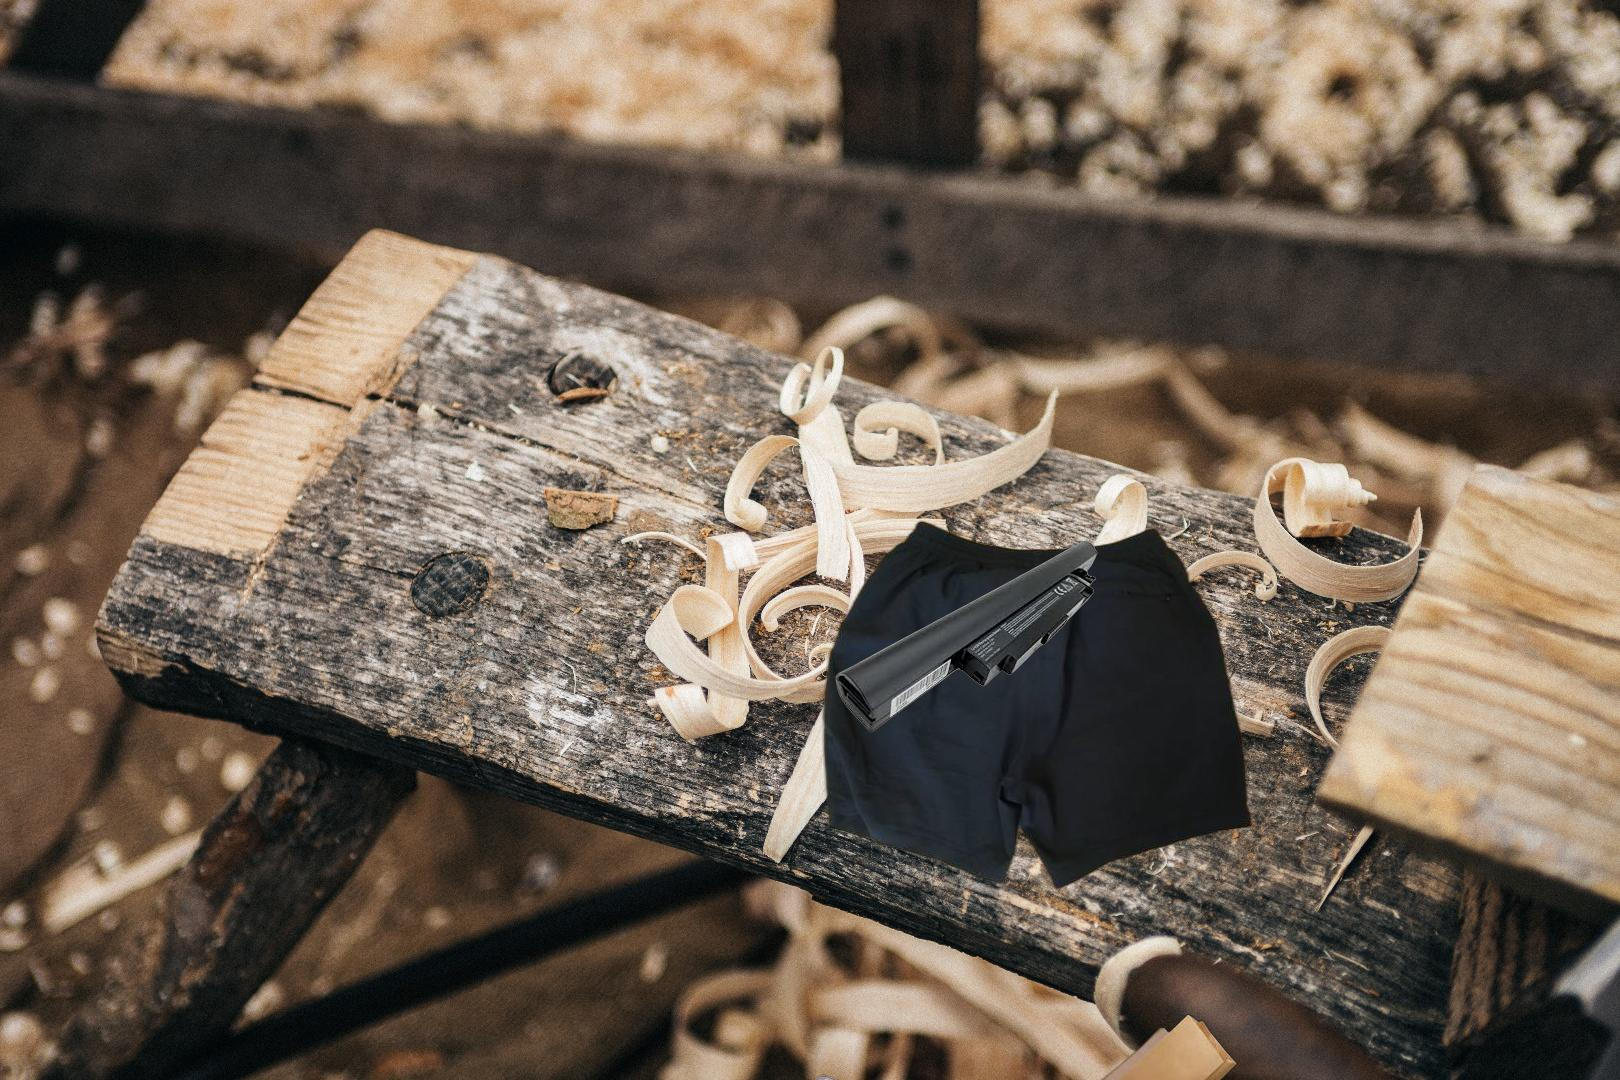battery: (835, 541, 1098, 733), (606, 1074, 857, 1080)
clothes: (817, 518, 1258, 892)
paper-bag: (1085, 1012, 1258, 1080)
